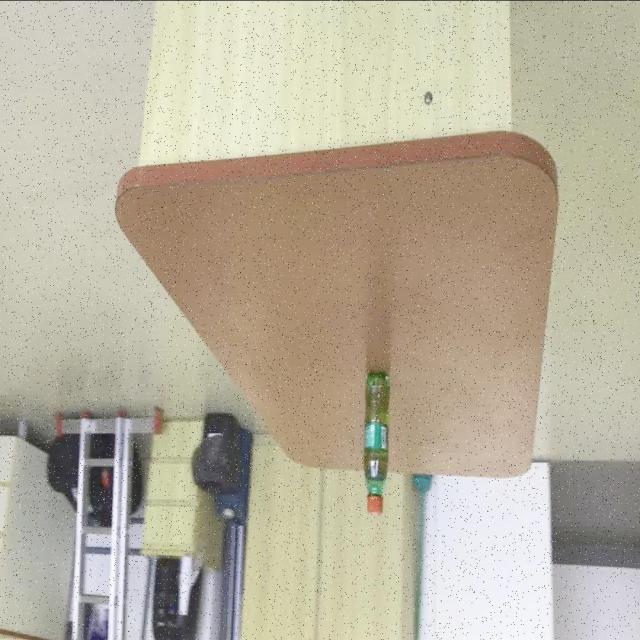Guarana: (113, 128, 558, 488), (362, 368, 390, 514)
